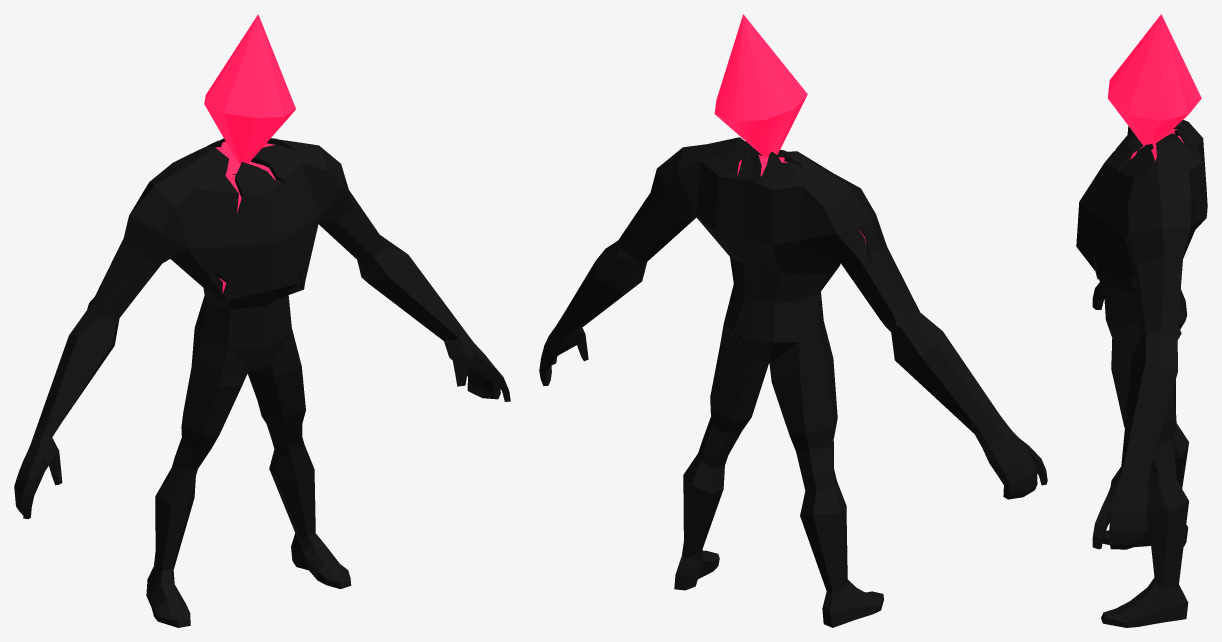
The model's file is BrokenCrystalHead.fbx.
3 views of the same model, side by side, from view 1: azimuth 30°, elevation 25°; view 2: azimuth 150°, elevation 25°; view 3: azimuth 270°, elevation 25° (orthographic). The views are drawn at different scales.
Parts seen in each view (by area): view 1: Crystal Head Full_cell.003, Crystal Head Full, Crystal Head Full_cell.005, Crystal Head Full_cell.006, Crystal Head Full_cell.004, Crystal Head Full_cell.012, Crystal Head Full_cell.011, Crystal Head Full_cell.007, Crystal Head Full_cell.008, Crystal Head Full_cell.009, Crystal Head Full_cell.001; view 2: Crystal Head Full, Crystal Head Full_cell, Crystal Head Full_cell.006, Crystal Head Full_cell.012, Crystal Head Full_cell.007, Crystal Head Full_cell.009, Crystal Head Full_cell.003; view 3: Crystal Head Full, Crystal Head Full_cell.003, Crystal Head Full_cell.005, Crystal Head Full_cell.012, Crystal Head Full_cell.004, Crystal Head Full_cell, Crystal Head Full_cell.009, Crystal Head Full_cell.007.
Part boxes in pixels (bbox=[...]): Crystal Head Full_cell.003: bbox=[196, 195, 510, 401]; Crystal Head Full: bbox=[14, 15, 503, 624]; Crystal Head Full_cell.005: bbox=[203, 142, 351, 249]; Crystal Head Full_cell.006: bbox=[106, 173, 218, 307]; Crystal Head Full_cell.004: bbox=[249, 369, 351, 588]; Crystal Head Full_cell.012: bbox=[204, 14, 295, 164]; Crystal Head Full_cell.011: bbox=[171, 354, 243, 500]; Crystal Head Full_cell.007: bbox=[150, 473, 193, 627]; Crystal Head Full_cell.008: bbox=[42, 291, 119, 417]; Crystal Head Full_cell.009: bbox=[178, 139, 281, 200]; Crystal Head Full_cell.001: bbox=[22, 412, 65, 500]; Crystal Head Full: bbox=[539, 14, 1046, 627]; Crystal Head Full_cell: bbox=[696, 169, 772, 261]; Crystal Head Full_cell.006: bbox=[794, 174, 910, 312]; Crystal Head Full_cell.012: bbox=[744, 15, 807, 154]; Crystal Head Full_cell.007: bbox=[801, 481, 883, 618]; Crystal Head Full_cell.009: bbox=[701, 140, 835, 181]; Crystal Head Full_cell.003: bbox=[545, 254, 839, 385]; Crystal Head Full: bbox=[1079, 14, 1207, 627]; Crystal Head Full_cell.003: bbox=[1076, 208, 1163, 549]; Crystal Head Full_cell.005: bbox=[1079, 136, 1185, 261]; Crystal Head Full_cell.012: bbox=[1108, 14, 1161, 145]; Crystal Head Full_cell.004: bbox=[1101, 404, 1186, 627]; Crystal Head Full_cell: bbox=[1190, 144, 1207, 221]; Crystal Head Full_cell.009: bbox=[1127, 128, 1196, 177]; Crystal Head Full_cell.007: bbox=[1102, 452, 1184, 546].
Bounding box in the file's own units: 281 × 312 × 64.35.
